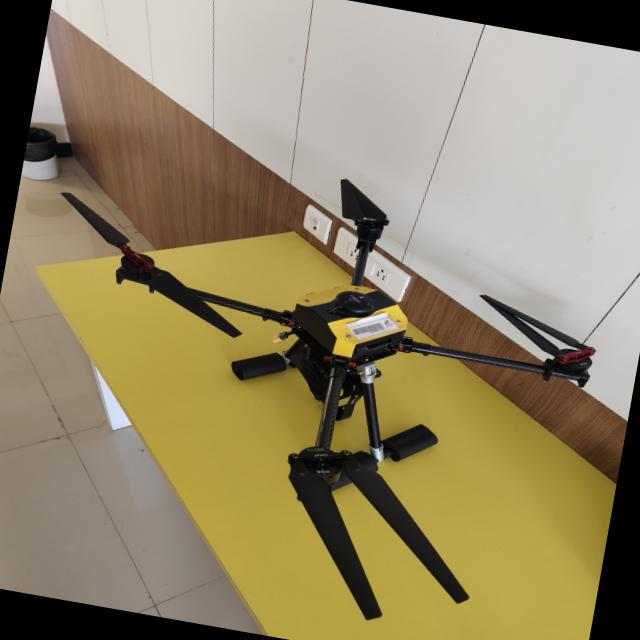quadcopter: (0, 124, 624, 640)
